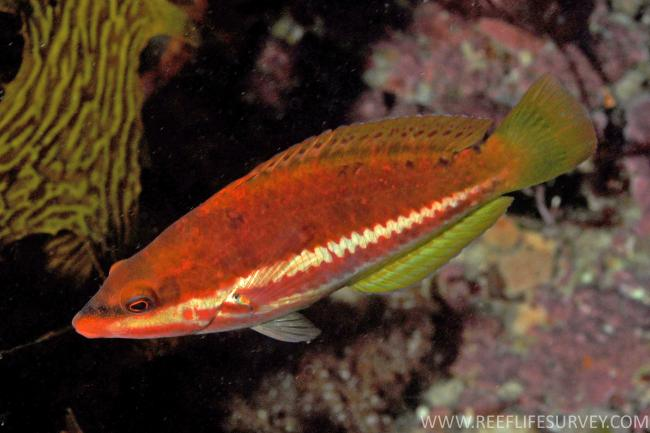fish: (72, 71, 600, 344)
